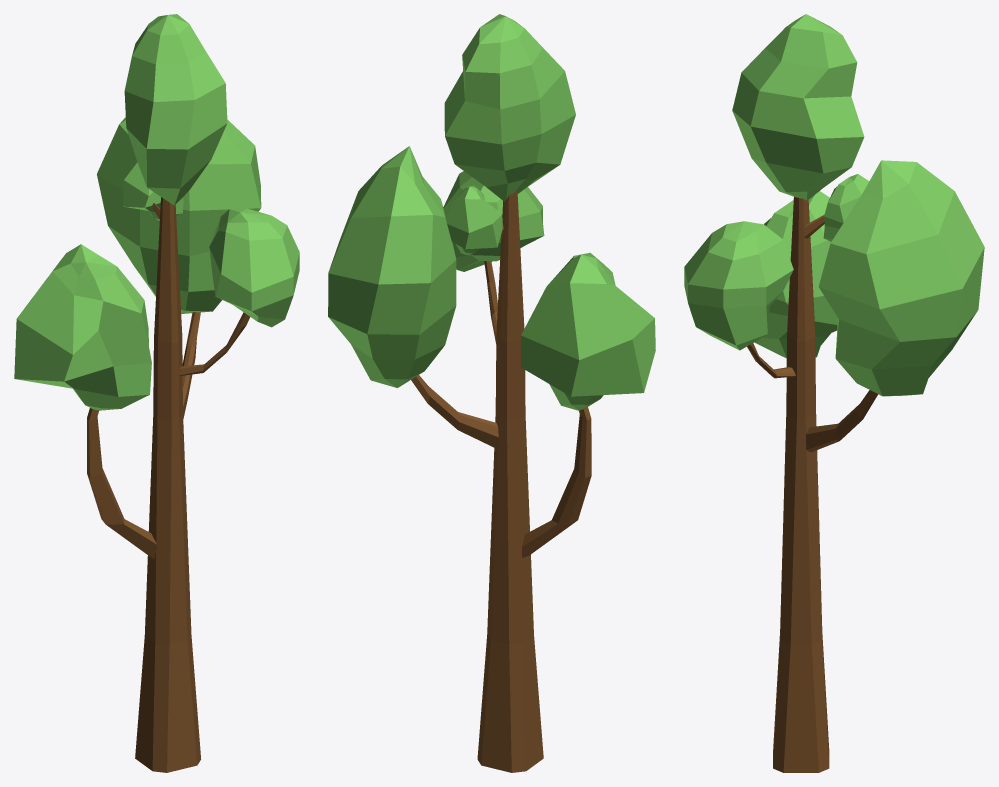
Rendered from Tree 1.fbx.
The picture shows the model from 3 angles, left to right: view 1: azimuth 30°, elevation 25°; view 2: azimuth 150°, elevation 25°; view 3: azimuth 270°, elevation 25°; orthographic projection.
Parts seen in each view (by area): view 1: Sphere.001; view 2: Sphere.001; view 3: Sphere.001.
Boxes of the visible parts, box(x1,y1,x2,y2) form: Sphere.001: box(14, 14, 299, 772); Sphere.001: box(328, 14, 655, 772); Sphere.001: box(684, 14, 984, 772).
Bounding box in the file's own units: 365 × 939 × 342.
